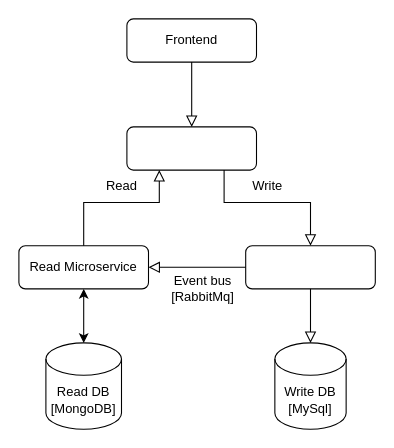
This 394x448 diagram has some shape labels left out. Each missing label, with the centre of its shape:
API Gateway: (x=191, y=148)
Write Microservice: (x=310, y=267)
